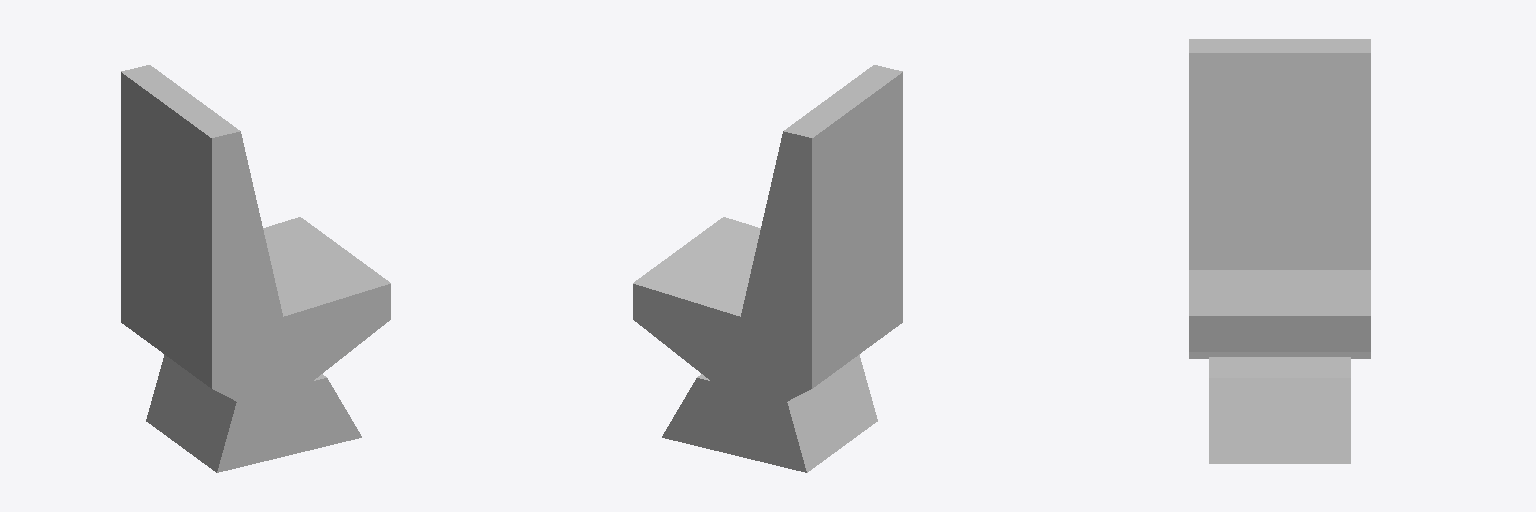
The model's file is spaceInterior_025.obj.
3 renders of one model, left to right at view 1: azimuth 30°, elevation 25°; view 2: azimuth 150°, elevation 25°; view 3: azimuth 270°, elevation 25°, orthographic.
Visible parts, largest first — view 1: Mesh1 Group1 Model; view 2: Mesh1 Group1 Model; view 3: Mesh1 Group1 Model.
Boxes of the visible parts, x1,y1,x2,y2 form: Mesh1 Group1 Model: [121, 65, 390, 472]; Mesh1 Group1 Model: [633, 65, 902, 472]; Mesh1 Group1 Model: [1189, 39, 1370, 463].
Size of the model in its own units: 0.2911 by 0.5348 by 0.2553.